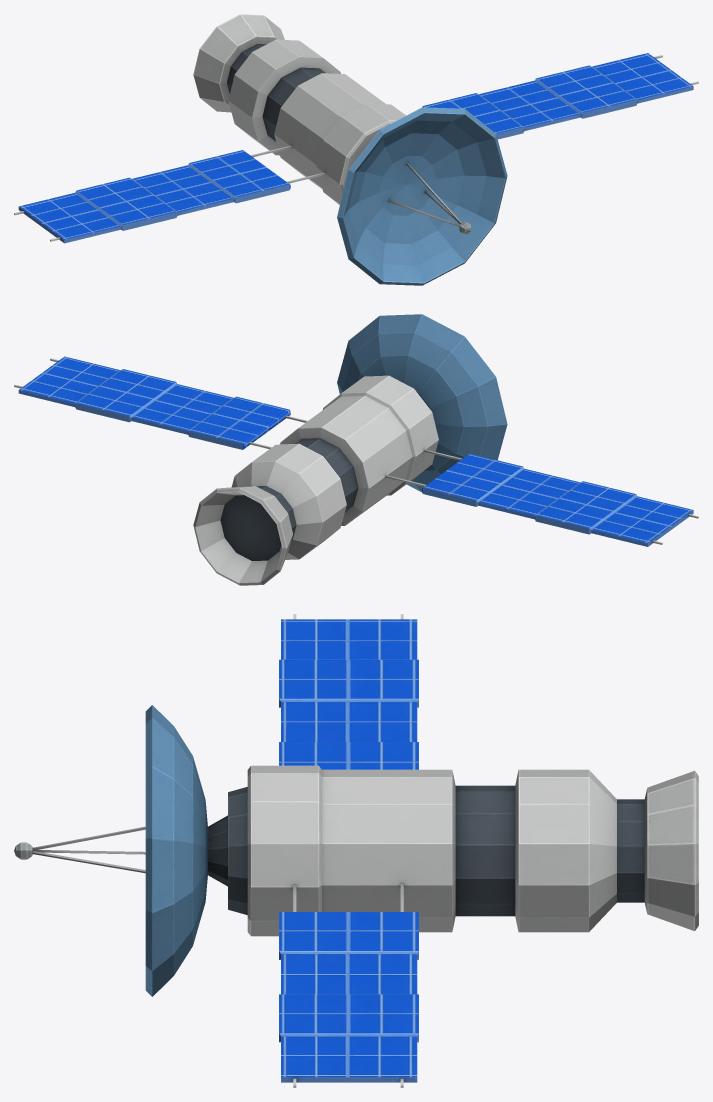
Rendered from satellite-01.glb.
3 views of the same model, one above another, from view 1: azimuth 30°, elevation 25°; view 2: azimuth 150°, elevation 25°; view 3: azimuth 270°, elevation 25° (orthographic). The views are drawn at different scales.
Visible parts, largest first — view 1: Satellite_mesh; view 2: Satellite_mesh; view 3: Satellite_mesh.
Boxes of the visible parts, bbox=[...] form: Satellite_mesh: bbox=[14, 14, 698, 285]; Satellite_mesh: bbox=[14, 314, 698, 585]; Satellite_mesh: bbox=[14, 614, 698, 1087].
Size of the model in its own units: 41.03 by 10.8 by 25.21.
Materials: 1 (1 with a texture image).
